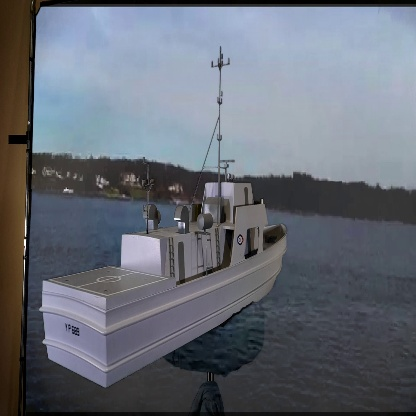YP689: (40, 44, 289, 388)
